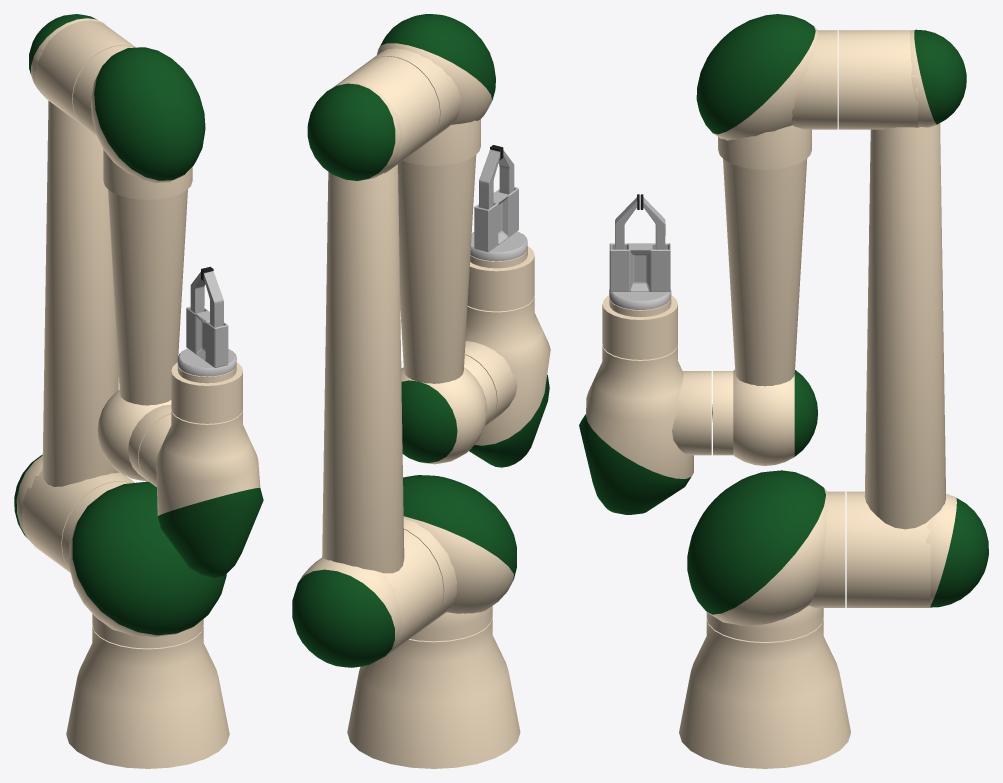
Rendered from robot_yas.fbx.
The picture shows the model from 3 angles, left to right: view 1: azimuth 30°, elevation 25°; view 2: azimuth 150°, elevation 25°; view 3: azimuth 270°, elevation 25°; orthographic projection. The views are drawn at different scales.
Parts seen in each view (by area): view 1: Cylinder.001, RobotBase-col, Sphere.001-col, Cylinder.003, Cylinder.006-col, Sphere.004, Cylinder.010, Cylinder.009-col, Cylinder.013-col, Cylinder.007-col, Sphere.005, Cylinder.011 (+9 smaller); view 2: Cylinder.001, RobotBase-col, Cylinder.003, Sphere.001-col, Sphere.002-col, Cylinder.006-col, Sphere.003, Sphere.005, Sphere.004, Cylinder.010, Cylinder.009-col, Cylinder.013-col (+9 smaller); view 3: Cylinder.001, RobotBase-col, Sphere.001-col, Cylinder.003, Cylinder.006-col, Sphere.004, Cylinder.009-col, Cylinder.010, Sphere.005, Sphere.002-col, Sphere.003, Cylinder.013-col (+7 smaller).
Part boxes in pixels (x1=…): Cylinder.001: x1=42, y1=101, x2=119, y2=486; RobotBase-col: x1=66, y1=626, x2=229, y2=768; Sphere.001-col: x1=69, y1=481, x2=226, y2=636; Cylinder.003: x1=108, y1=189, x2=187, y2=405; Cylinder.006-col: x1=156, y1=409, x2=263, y2=578; Sphere.004: x1=91, y1=47, x2=205, y2=183; Cylinder.010: x1=34, y1=20, x2=135, y2=125; Cylinder.009-col: x1=21, y1=469, x2=134, y2=572; Cylinder.013-col: x1=171, y1=362, x2=242, y2=423; Cylinder.007-col: x1=177, y1=306, x2=236, y2=376; Sphere.005: x1=97, y1=390, x2=171, y2=481; Cylinder.011: x1=103, y1=149, x2=192, y2=199; Cylinder.001: x1=322, y1=164, x2=404, y2=573; RobotBase-col: x1=347, y1=617, x2=520, y2=768; Cylinder.003: x1=398, y1=155, x2=476, y2=383; Sphere.001-col: x1=403, y1=475, x2=516, y2=613; Sphere.002-col: x1=292, y1=558, x2=401, y2=667; Cylinder.006-col: x1=465, y1=296, x2=550, y2=467; Sphere.003: x1=307, y1=82, x2=401, y2=180; Sphere.005: x1=401, y1=367, x2=487, y2=464; Sphere.004: x1=377, y1=14, x2=495, y2=124; Cylinder.010: x1=331, y1=56, x2=440, y2=173; Cylinder.009-col: x1=318, y1=529, x2=443, y2=661; Cylinder.013-col: x1=467, y1=246, x2=534, y2=311; Cylinder.001: x1=864, y1=123, x2=945, y2=529; RobotBase-col: x1=679, y1=618, x2=850, y2=768; Sphere.001-col: x1=687, y1=470, x2=827, y2=626; Cylinder.003: x1=723, y1=158, x2=807, y2=386; Cylinder.006-col: x1=579, y1=345, x2=693, y2=514; Sphere.004: x1=696, y1=14, x2=818, y2=140; Cylinder.009-col: x1=846, y1=491, x2=930, y2=607; Cylinder.010: x1=838, y1=30, x2=918, y2=129; Sphere.005: x1=712, y1=370, x2=817, y2=465; Sphere.002-col: x1=926, y1=494, x2=988, y2=607; Sphere.003: x1=910, y1=29, x2=966, y2=127; Cylinder.013-col: x1=602, y1=295, x2=677, y2=359.
Size of the model in its own units: 23.31 by 107 by 55.48.
